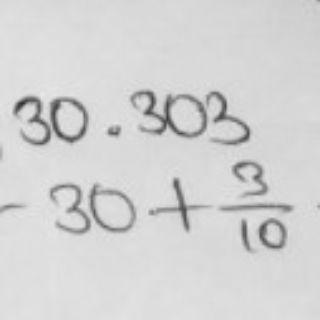.: (105, 123, 123, 138)
0: (87, 182, 140, 235), (165, 87, 208, 140), (50, 96, 90, 144), (256, 218, 291, 252)
1: (238, 216, 255, 257)
3: (206, 89, 252, 147), (47, 180, 91, 237), (11, 93, 51, 149), (128, 88, 167, 136), (230, 159, 271, 198)
